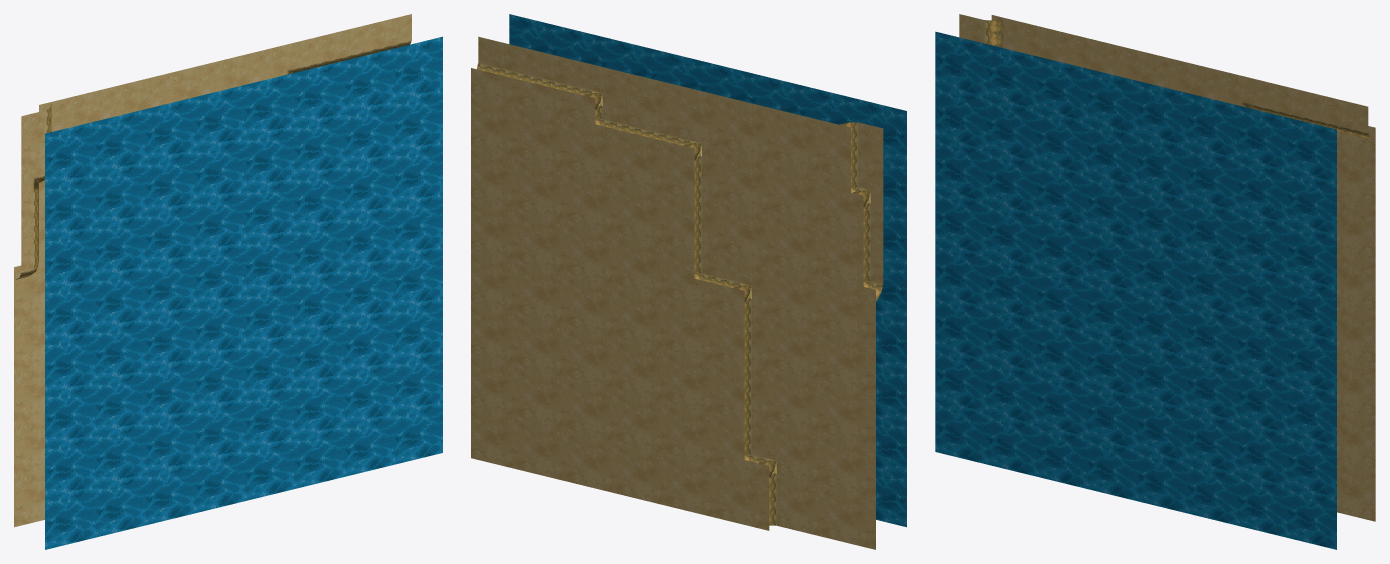
The model's file is HGRT-OW-v1_43_13.obj.
3 renders of one model, left to right at view 1: azimuth 30°, elevation 25°; view 2: azimuth 150°, elevation 25°; view 3: azimuth 330°, elevation 25°, orthographic.
Visible parts, largest first — view 1: map; view 2: map; view 3: map.
Boxes of the visible parts, left/top/right/bottom form: map: left=14, top=14, right=442, bottom=549; map: left=471, top=14, right=906, bottom=549; map: left=935, top=14, right=1375, bottom=549.
Size of the model in its own units: 32 by 32 by 5.31.
Materials: 4 (4 with a texture image).
